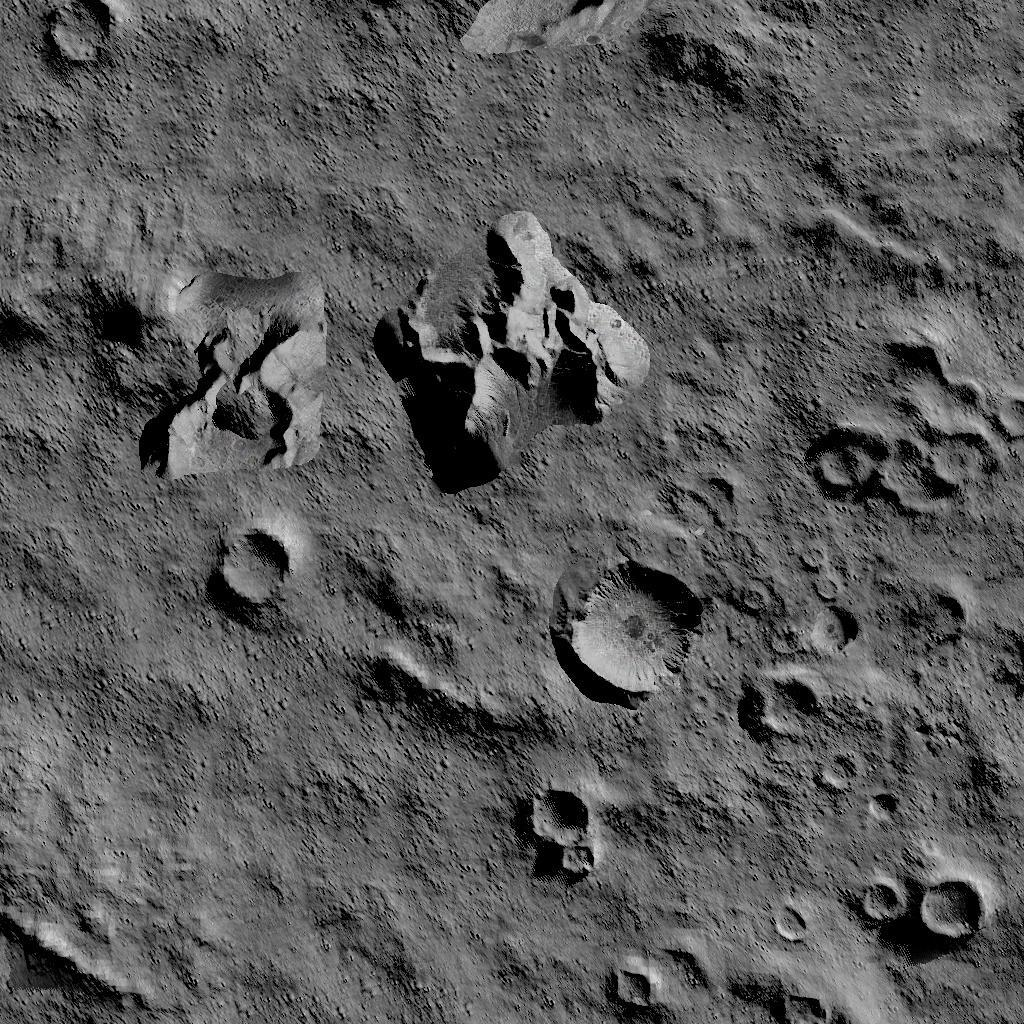Boulders: (0, 198, 326, 476), (378, 212, 650, 490), (364, 0, 820, 123), (796, 132, 1024, 296), (358, 645, 553, 753), (0, 905, 158, 1005)
Crater: (806, 340, 1024, 518), (564, 560, 702, 700), (854, 872, 986, 942), (518, 785, 598, 888), (208, 525, 296, 610), (741, 662, 825, 746), (44, 0, 118, 73), (610, 958, 660, 1016), (784, 988, 830, 1024)
Plan surface: (1, 488, 198, 892), (213, 768, 508, 1024), (133, 0, 353, 185), (836, 0, 1024, 120)
